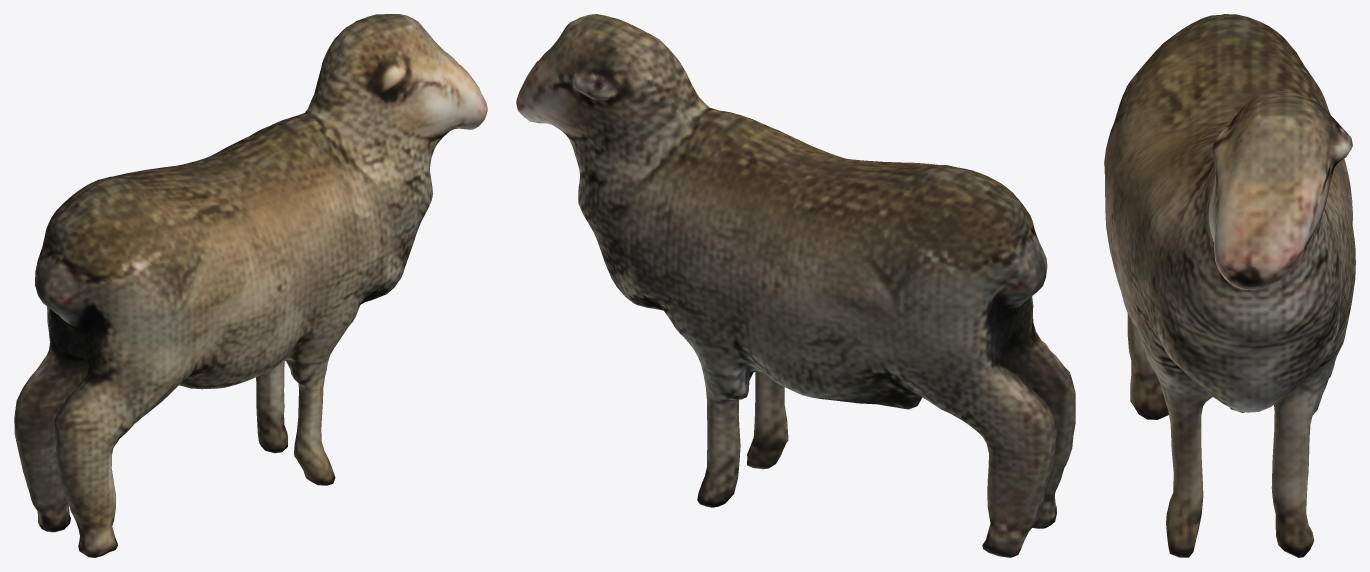
File: joven.glb
3 views of the same model, side by side, from view 1: azimuth 30°, elevation 25°; view 2: azimuth 150°, elevation 25°; view 3: azimuth 270°, elevation 25° (orthographic). The views are drawn at different scales.
Parts seen in each view (by area): view 1: mesh; view 2: mesh; view 3: mesh.
Boxes of the visible parts, x1=… form: mesh: x1=14, y1=14, x2=487, y2=557; mesh: x1=516, y1=14, x2=1075, y2=557; mesh: x1=1104, y1=14, x2=1355, y2=557.
Bounding box in the file's own units: 1.66 × 1.38 × 0.6098.
Materials: 1 (1 with a texture image).
